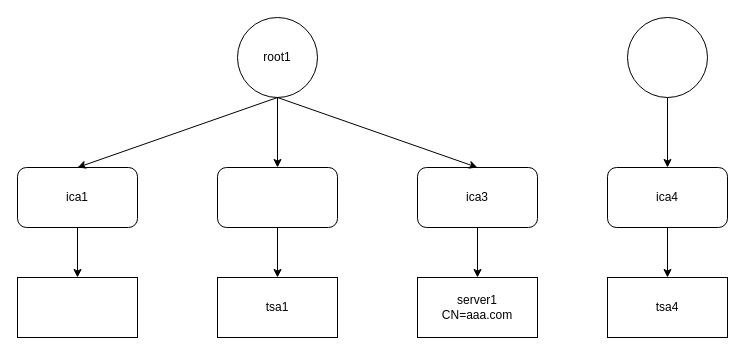
Image size: 745x355. Some labels were removed from this diagram. The shapes that lost their labels are listed below. From the top down, each one's centre as x and y in pixels, then its label:
the point at 667,57: root2
the point at 277,197: ica2
the point at 77,307: user1 CN=user1@aaa.com
